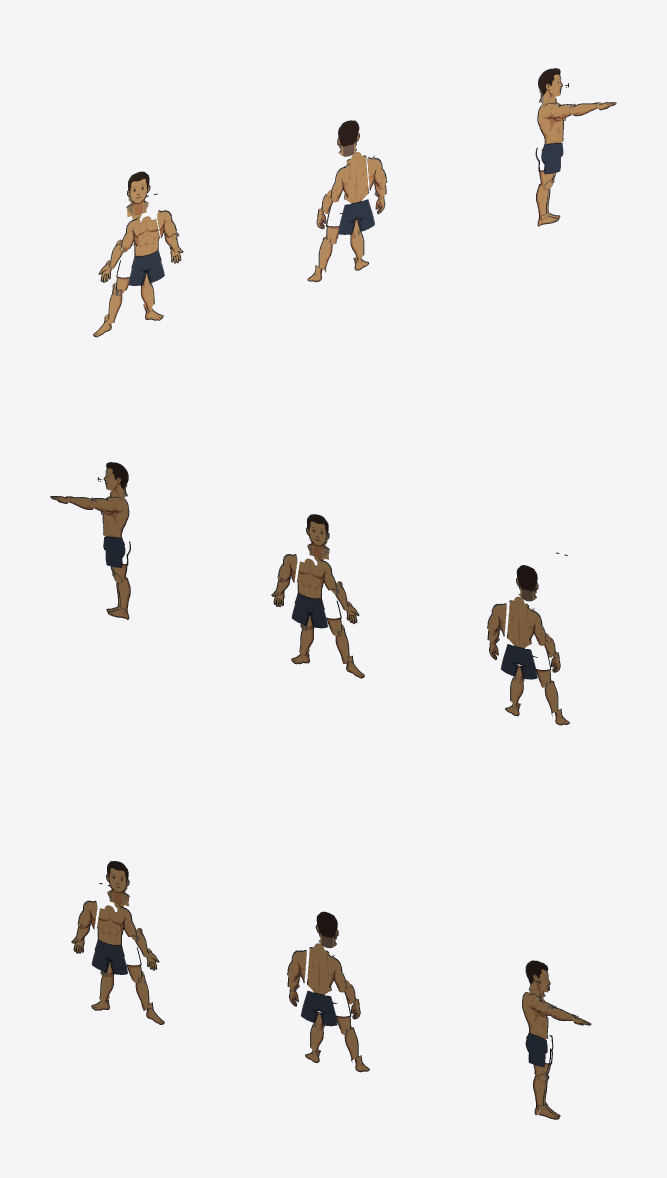
Rendered from Human_Man_3D.GLB.
3 renders of one model, top to bottom at view 1: azimuth 30°, elevation 25°; view 2: azimuth 150°, elevation 25°; view 3: azimuth 330°, elevation 25°, orthographic.
Parts seen in each view (by area): view 1: Back_Part_Torso_V1, Front_Part_Torso_V1, Side_Part_Torso_V1, Front_Part_Head_V1, Back_Part_Head_V1, Side_Part_Head_V1; view 2: FrontBack_Part_Torso_V1, BackBack_Part_Torso_V1, SideBack_Part_Torso_V1, BackBack_Part_Head_V1, SideBack_Part_Head_V1, FrontBack_Part_Head_V1; view 3: Back_Part_Torso_V1, Front_Part_Torso_V1, Side_Part_Torso_V1, Front_Part_Head_V1, Back_Part_Head_V1, Side_Part_Head_V1.
Part boxes in pixels (x1=…): Back_Part_Torso_V1: x1=338, y1=152, x2=374, y2=234; Front_Part_Torso_V1: x1=128, y1=216, x2=164, y2=286; Side_Part_Torso_V1: x1=537, y1=97, x2=563, y2=174; Front_Part_Head_V1: x1=127, y1=171, x2=150, y2=214; Back_Part_Head_V1: x1=337, y1=120, x2=359, y2=156; Side_Part_Head_V1: x1=538, y1=68, x2=562, y2=103; FrontBack_Part_Torso_V1: x1=500, y1=596, x2=537, y2=679; BackBack_Part_Torso_V1: x1=291, y1=558, x2=327, y2=628; SideBack_Part_Torso_V1: x1=102, y1=490, x2=129, y2=567; BackBack_Part_Head_V1: x1=306, y1=514, x2=329, y2=557; SideBack_Part_Head_V1: x1=103, y1=462, x2=128, y2=497; FrontBack_Part_Head_V1: x1=516, y1=565, x2=538, y2=601; Back_Part_Torso_V1: x1=300, y1=943, x2=337, y2=1026; Front_Part_Torso_V1: x1=91, y1=905, x2=127, y2=974; Side_Part_Torso_V1: x1=522, y1=989, x2=548, y2=1067; Front_Part_Head_V1: x1=106, y1=861, x2=129, y2=904; Back_Part_Head_V1: x1=315, y1=911, x2=338, y2=948; Side_Part_Head_V1: x1=525, y1=960, x2=550, y2=997.
Bounding box in the file's own units: 6.6 × 2 × 0.8715.
Materials: 81 (81 with a texture image).
